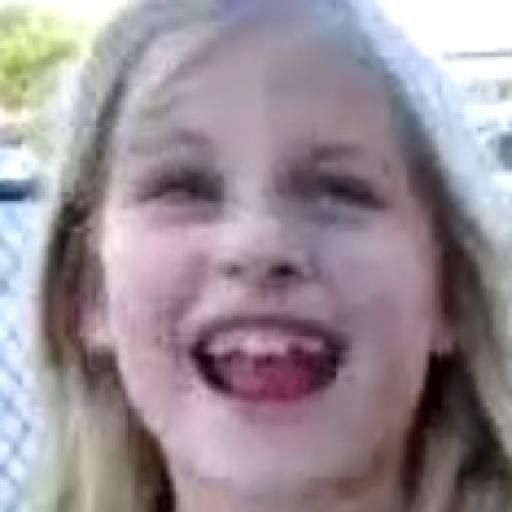Autism: (60, 18, 475, 512)
